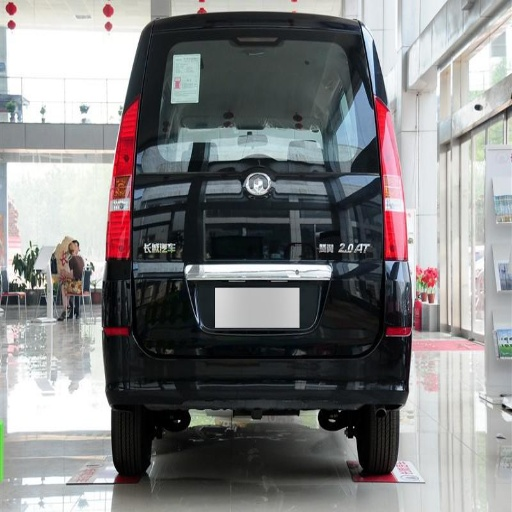back_bumper: (102, 327, 414, 408)
tailgate: (187, 244, 381, 357)
trunk: (121, 266, 277, 367), (203, 130, 299, 160), (136, 164, 193, 211)
